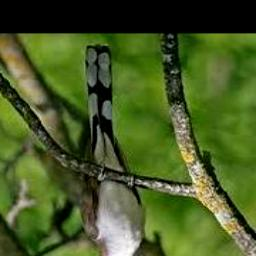Cuckoo: (77, 45, 154, 256)
